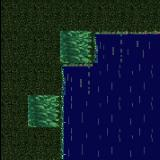Interaction: (51, 51, 72, 160), (105, 21, 160, 44), (72, 51, 104, 74), (86, 20, 104, 50)
Slow: (66, 70, 160, 160), (98, 37, 160, 70), (59, 30, 93, 64), (27, 95, 60, 128)
